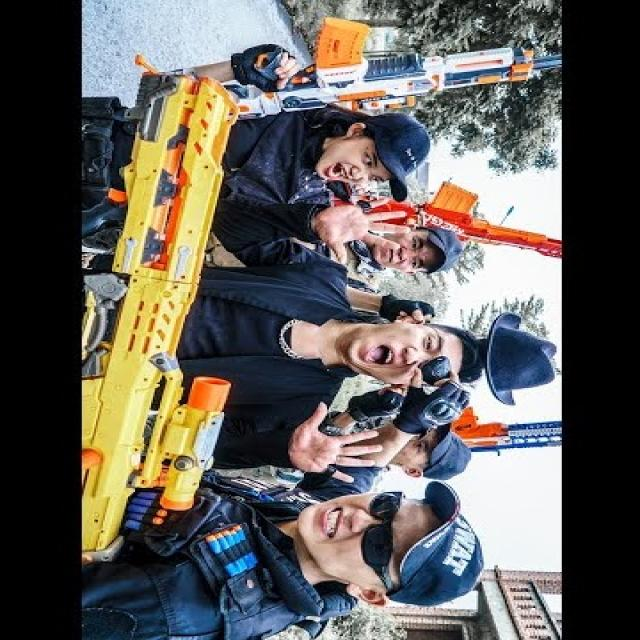Nerf gun: (82, 58, 252, 558), (226, 11, 556, 125), (340, 174, 560, 254), (426, 397, 559, 459)
